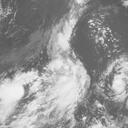cyclone: (48, 62, 88, 104), (104, 61, 127, 100), (2, 80, 22, 104)
